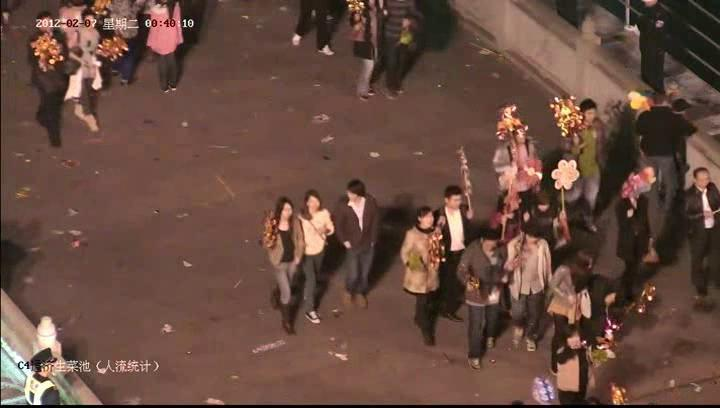person: (455, 223, 509, 374), (397, 204, 449, 348), (505, 215, 555, 354), (564, 95, 613, 236), (334, 178, 384, 316), (25, 10, 70, 150), (678, 164, 720, 308), (262, 196, 301, 336), (298, 188, 336, 326), (143, 0, 187, 95), (346, 0, 380, 100), (382, 0, 414, 98), (22, 346, 66, 405)
